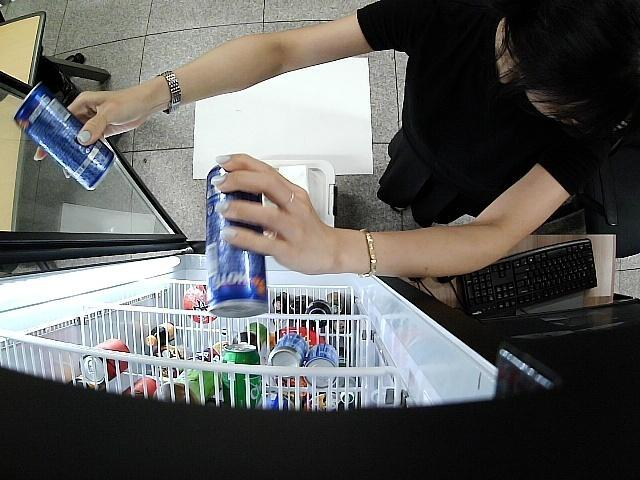16_hot6: (14, 82, 116, 192), (205, 167, 268, 318)
